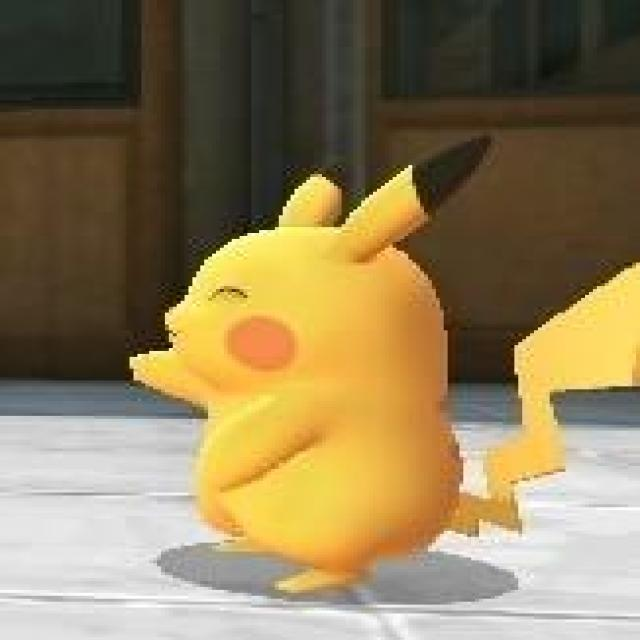pikachu: (125, 135, 640, 595)
